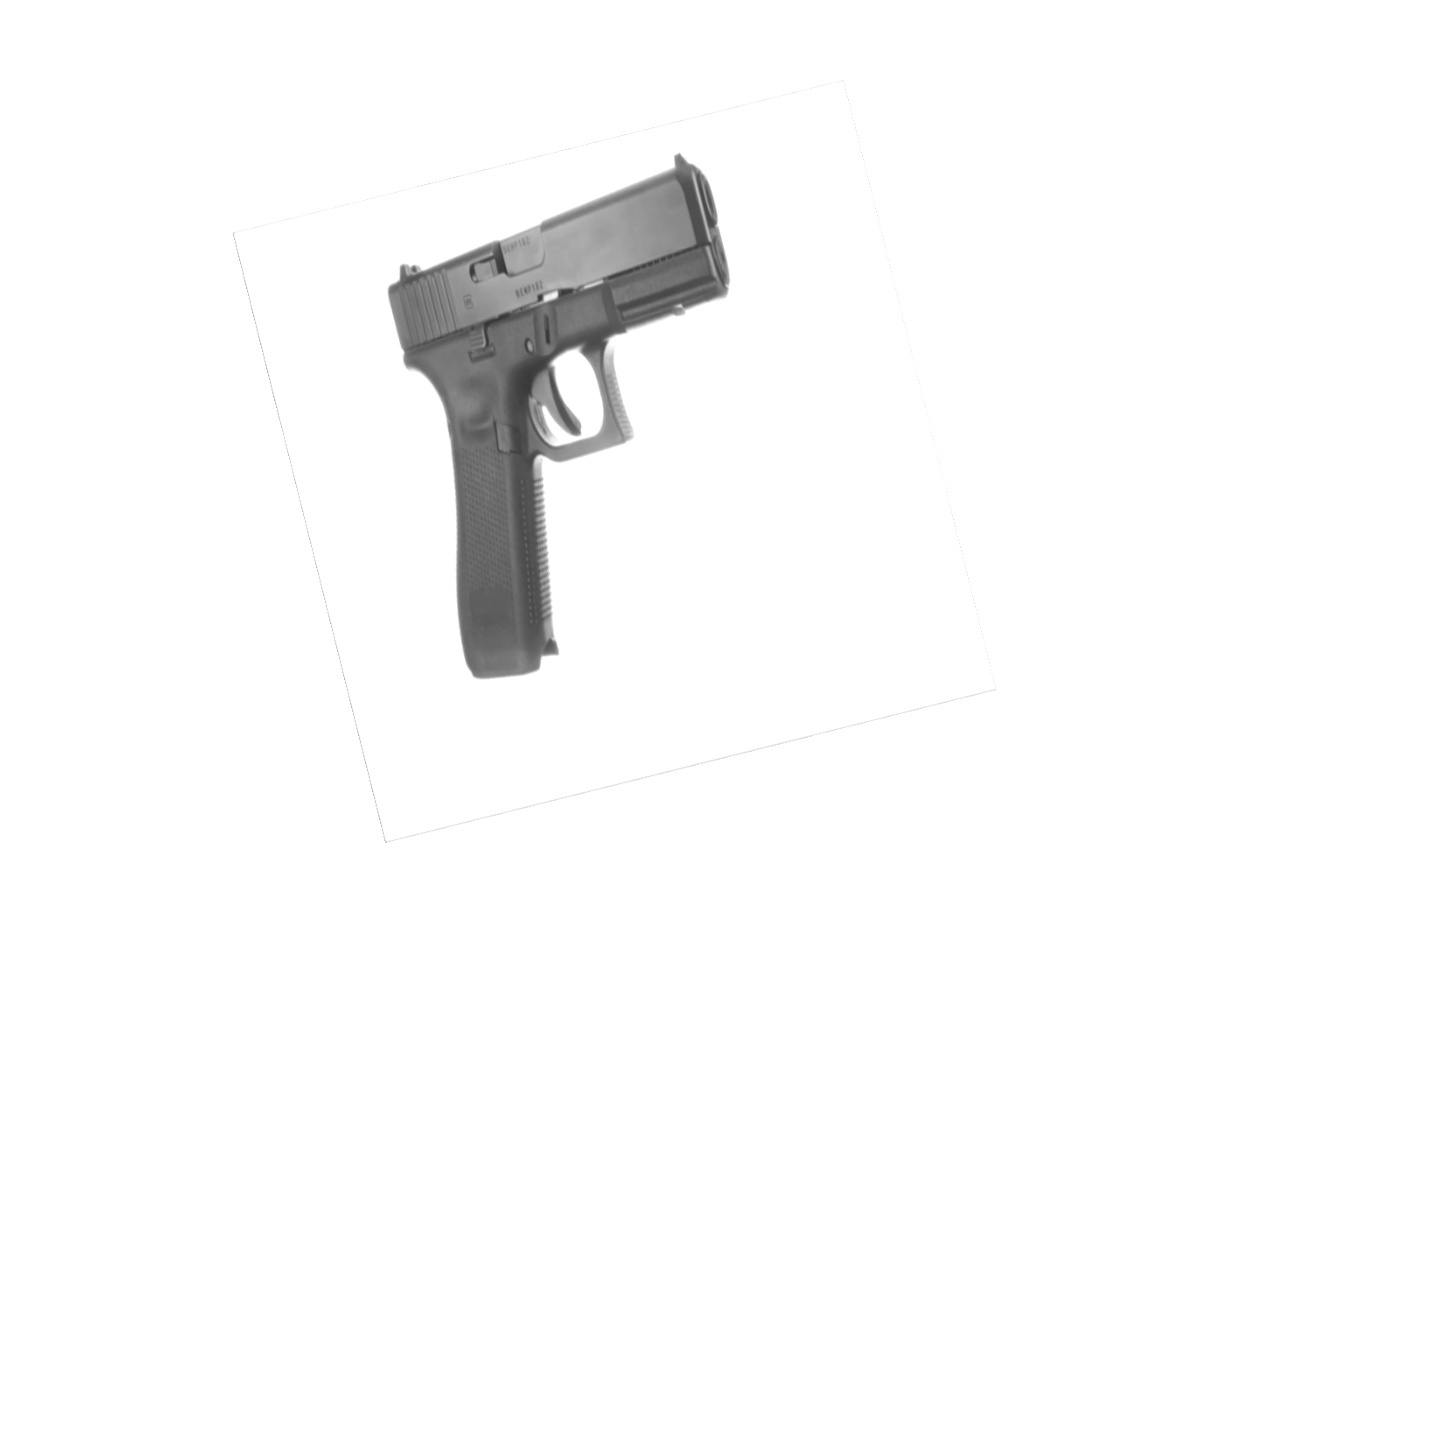gun: (371, 147, 751, 683)
